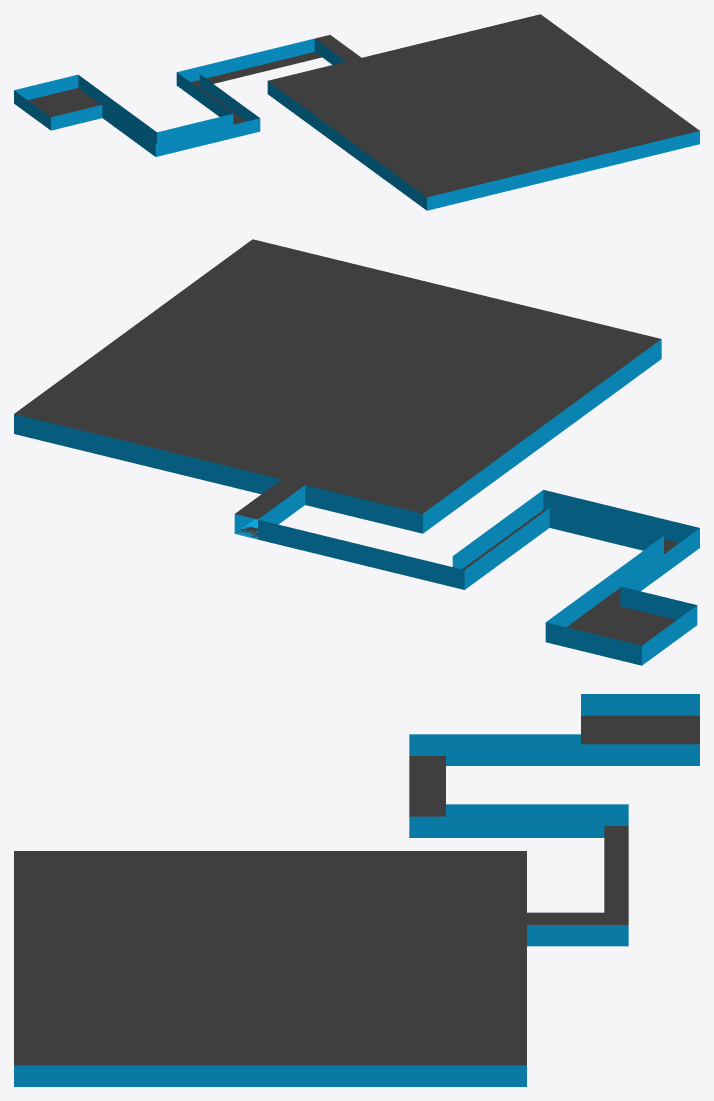
The model's file is Main Map.obj.
3 renders of one model, top to bottom at view 1: azimuth 30°, elevation 25°; view 2: azimuth 150°, elevation 25°; view 3: azimuth 270°, elevation 25°, orthographic. The views are drawn at different scales.
Parts seen in each view (by area): view 1: Main Map; view 2: Main Map; view 3: Main Map.
Part boxes in pixels (x1=…): Main Map: x1=14, y1=14, x2=699, y2=210; Main Map: x1=14, y1=239, x2=699, y2=665; Main Map: x1=14, y1=694, x2=699, y2=1086.
Bounding box in the file's own units: 463 × 12.5 × 362.
